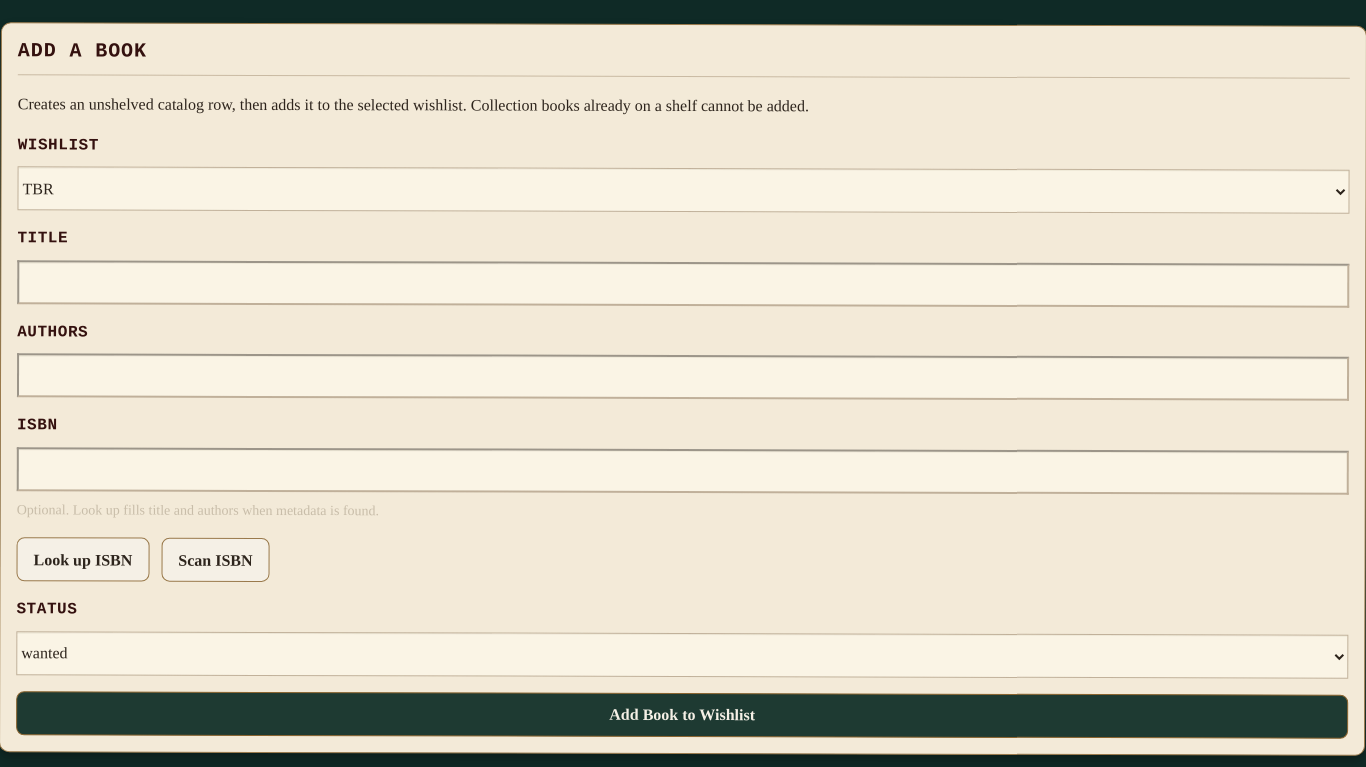
Test case: AddWishlistBookControl › creates an unshelved catalog row then adds membership
The image size is (1366, 767).
Type "A Book" into the field labelled "Title" at coordinates (683, 284), box [17,260,1349,308]
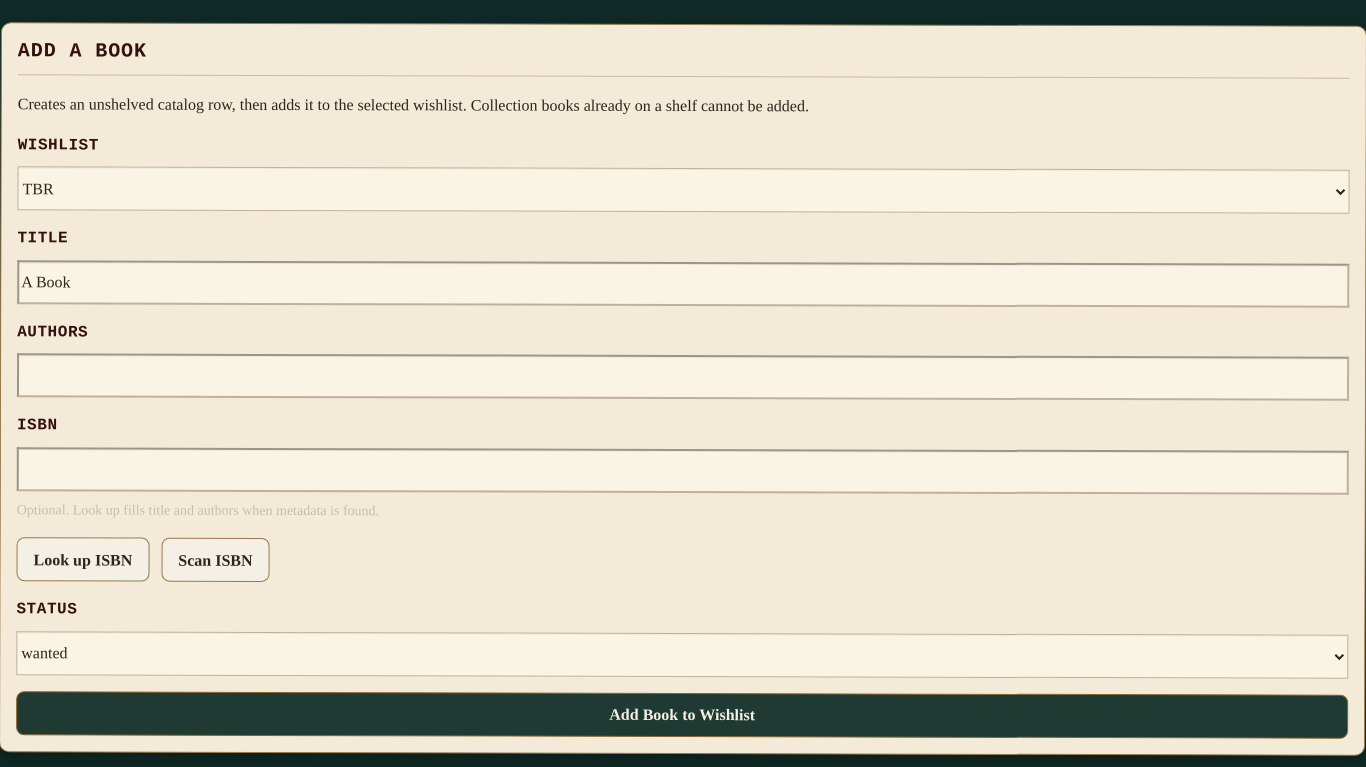
Type "An Author" into the field labelled "Authors" at coordinates (683, 377), box [17,354,1349,401]
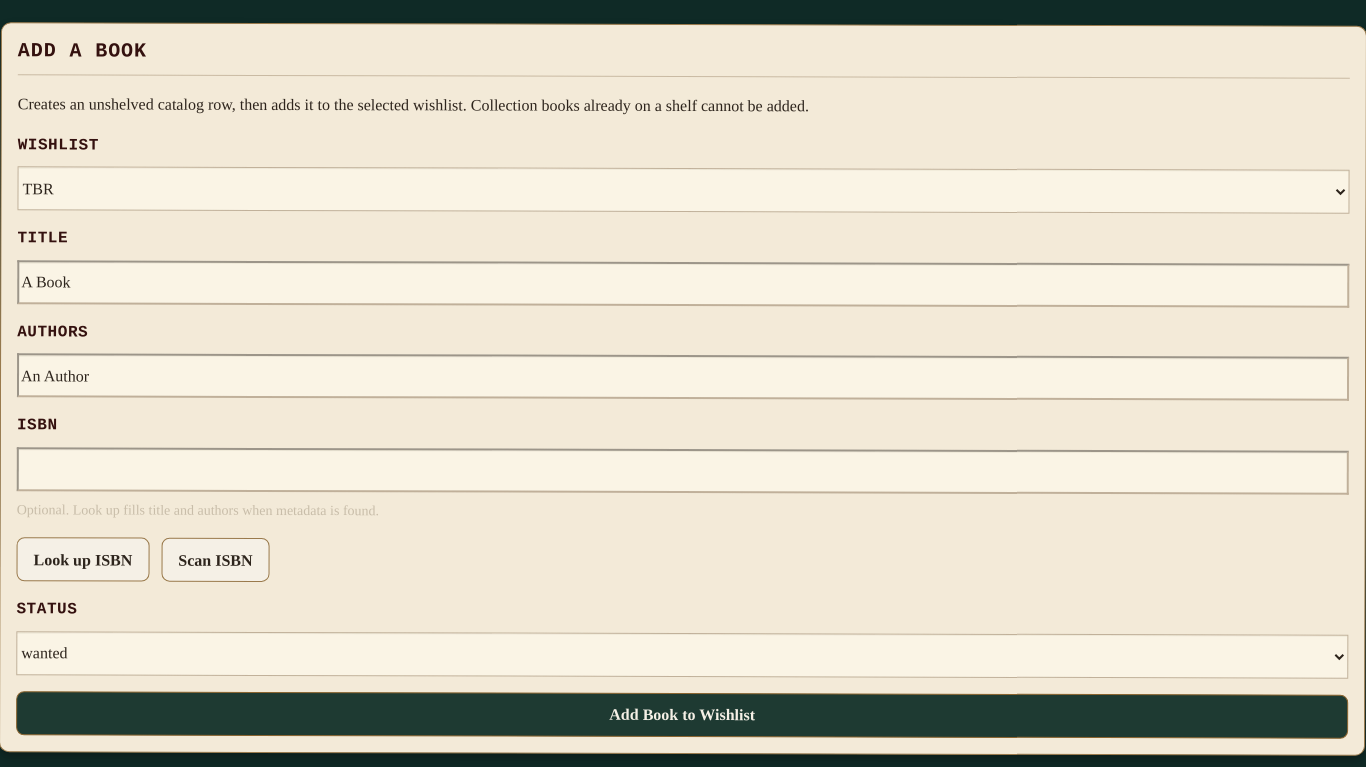
Click the button "Add Book to Wishlist" at coordinates (682, 715), box [16,691,1348,739]
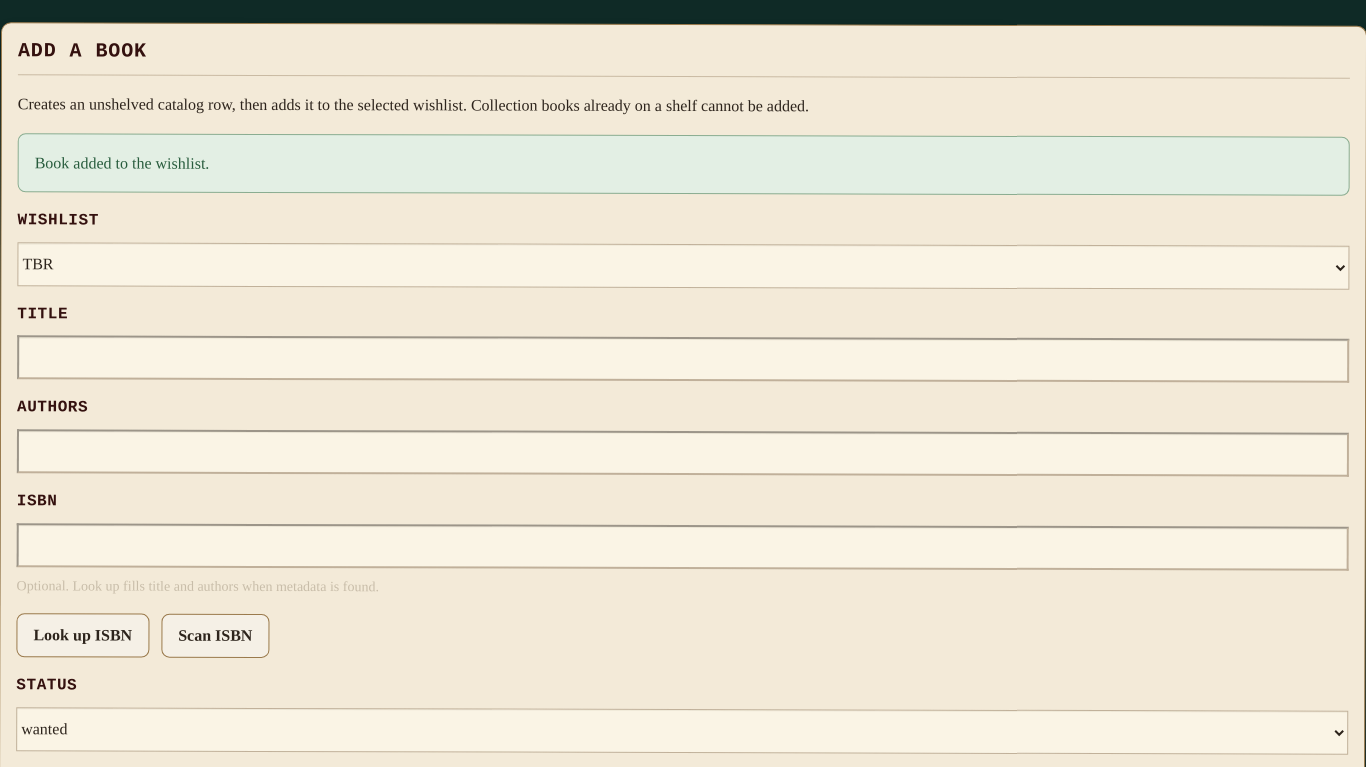
Now the message reads "Book added to the wishlist.", box [35,154,209,171]
